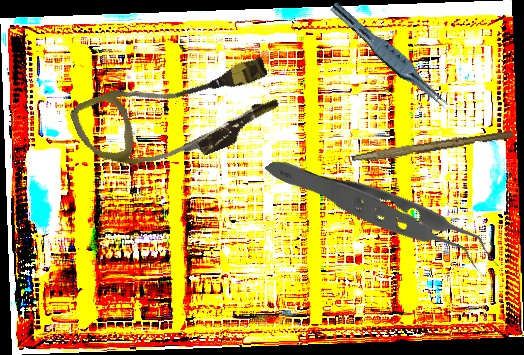Cannula: (67, 34, 288, 197)
Scalpel Handle: (351, 126, 514, 168)
Tissue Forceps: (263, 89, 501, 345), (324, 0, 455, 113)
